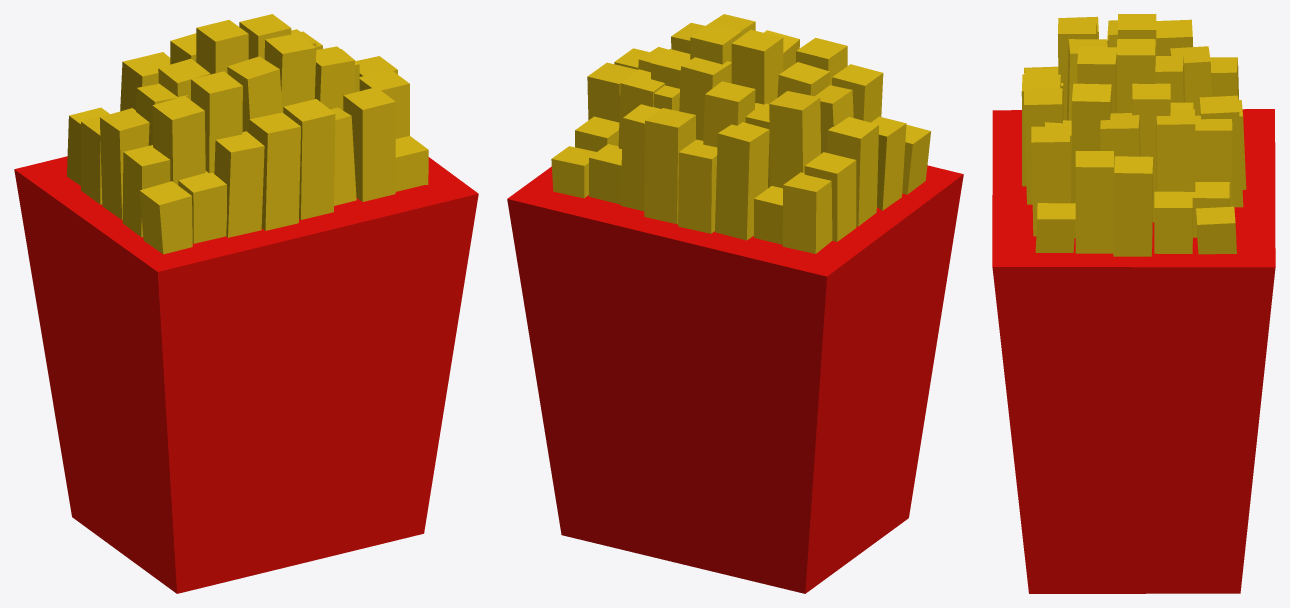
The model's file is fries.fbx.
The picture shows the model from 3 angles, left to right: view 1: azimuth 30°, elevation 25°; view 2: azimuth 150°, elevation 25°; view 3: azimuth 270°, elevation 25°; orthographic projection.
Parts seen in each view (by area): view 1: Cube, Cube.023, Cube.013, Cube.021, Cube.014, Cube.010, Cube.016, Cube.001, Cube.011, Cube.036, Cube.009, Cube.012 (+13 smaller); view 2: Cube, Cube.019, Cube.028, Cube.007, Cube.017, Cube.020, Cube.001, Cube.004, Cube.008, Cube.027, Cube.009, Cube.005 (+14 smaller); view 3: Cube, Cube.033, Cube.040, Cube.023, Cube.031, Cube.035, Cube.027, Cube.032, Cube.037, Cube.038, Cube.021, Cube.024 (+14 smaller).
Part boxes in pixels (x1,y1,x2,y2): Cube: [14, 156, 478, 593]; Cube.023: [343, 87, 395, 201]; Cube.013: [249, 112, 300, 230]; Cube.021: [283, 99, 335, 219]; Cube.014: [214, 131, 264, 237]; Cube.010: [152, 96, 205, 185]; Cube.016: [139, 181, 192, 254]; Cube.001: [99, 108, 149, 219]; Cube.011: [191, 71, 242, 173]; Cube.036: [264, 33, 316, 112]; Cube.009: [122, 145, 170, 237]; Cube.012: [227, 56, 282, 132]; Cube: [507, 165, 963, 593]; Cube.019: [715, 122, 769, 240]; Cube.028: [644, 108, 695, 224]; Cube.007: [769, 91, 820, 188]; Cube.017: [782, 172, 832, 253]; Cube.020: [678, 139, 717, 233]; Cube.001: [827, 117, 878, 226]; Cube.004: [731, 29, 783, 104]; Cube.008: [804, 152, 856, 241]; Cube.027: [620, 104, 660, 211]; Cube.009: [871, 116, 906, 210]; Cube.005: [703, 81, 755, 147]; Cube: [992, 109, 1275, 593]; Cube.033: [1075, 151, 1113, 253]; Cube.040: [1113, 156, 1153, 256]; Cube.023: [1031, 126, 1071, 236]; Cube.031: [1156, 109, 1195, 191]; Cube.035: [1071, 83, 1111, 203]; Cube.027: [1195, 115, 1232, 206]; Cube.032: [1154, 191, 1192, 253]; Cube.037: [1117, 39, 1155, 113]; Cube.038: [1132, 83, 1170, 222]; Cube.021: [1024, 88, 1063, 204]; Cube.024: [1035, 203, 1075, 252].
Size of the model in its own units: 94.24 by 139 by 71.25.
